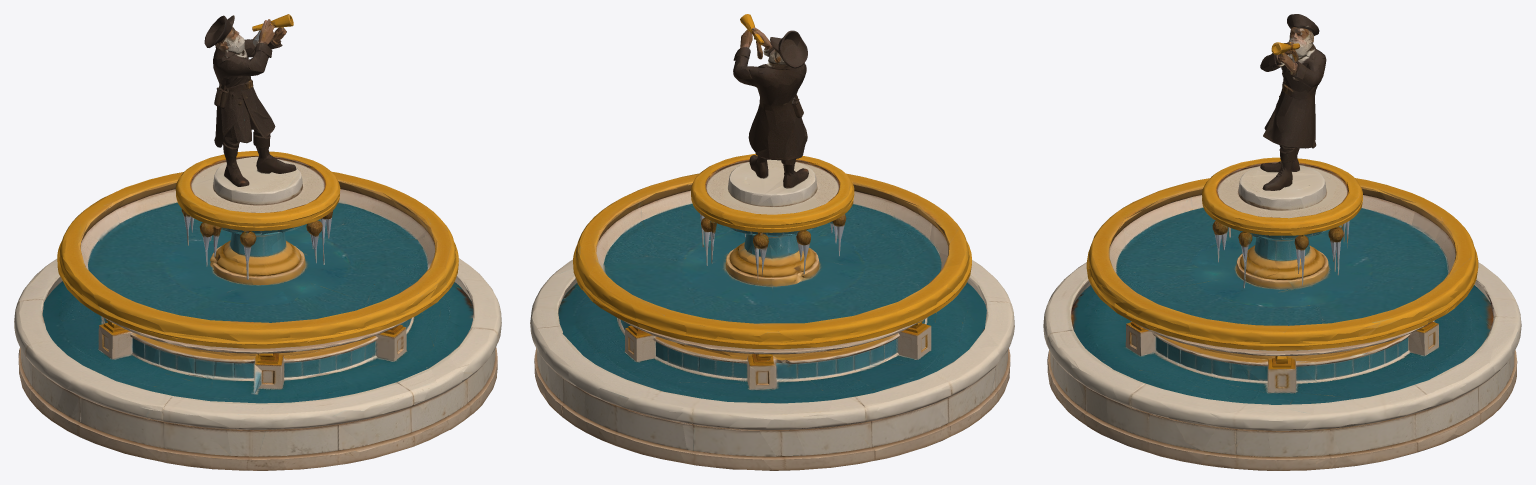
Rendered from fountain.glb.
3 renders of one model, left to right at view 1: azimuth 30°, elevation 25°; view 2: azimuth 150°, elevation 25°; view 3: azimuth 270°, elevation 25°, orthographic. The views are drawn at different scales.
Visible parts, largest first — view 1: Mesh_0; view 2: Mesh_0; view 3: Mesh_0.
Part boxes in pixels (x1,y1,x2,y2): Mesh_0: (14,14,501,470); Mesh_0: (530,14,1014,470); Mesh_0: (1043,14,1521,470).
Size of the model in its own units: 1.9 by 1.53 by 1.9.
Materials: 1 (1 with a texture image).
